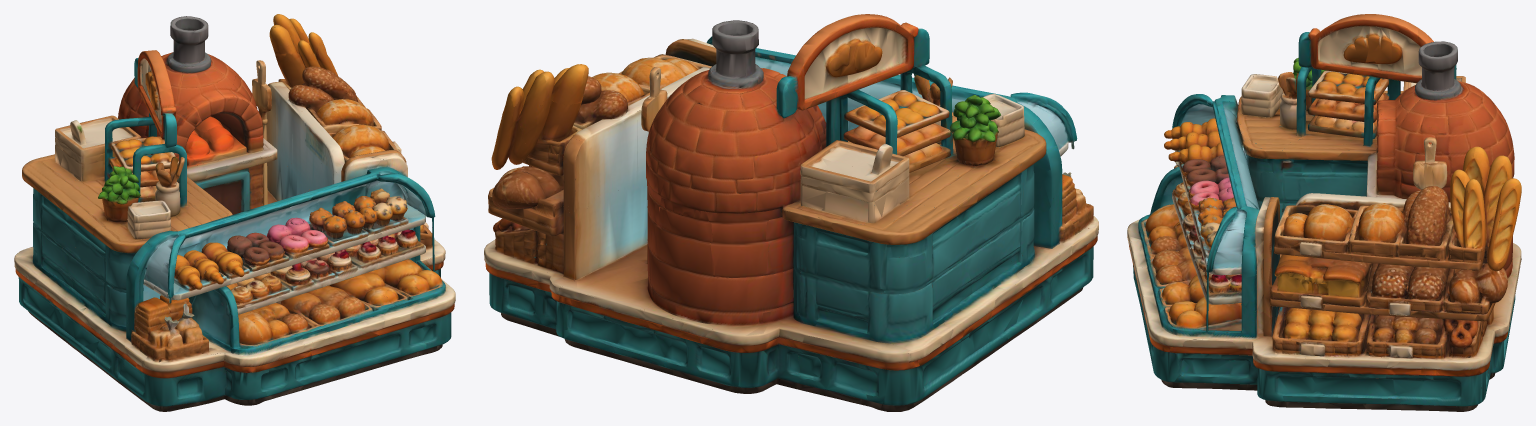
The model's file is BakeryDisplay.fbx.
3 views of the same model, side by side, from view 1: azimuth 30°, elevation 25°; view 2: azimuth 150°, elevation 25°; view 3: azimuth 270°, elevation 25° (orthographic). The views are drawn at different scales.
Parts seen in each view (by area): view 1: tripo_node_5d4427f1-ba9b-4432-8a0c-03a8f67b254d; view 2: tripo_node_5d4427f1-ba9b-4432-8a0c-03a8f67b254d; view 3: tripo_node_5d4427f1-ba9b-4432-8a0c-03a8f67b254d.
Boxes of the visible parts, box(x1,y1,x2,y2) form: tripo_node_5d4427f1-ba9b-4432-8a0c-03a8f67b254d: box(14, 14, 455, 411); tripo_node_5d4427f1-ba9b-4432-8a0c-03a8f67b254d: box(484, 14, 1098, 411); tripo_node_5d4427f1-ba9b-4432-8a0c-03a8f67b254d: box(1127, 14, 1521, 411).
Size of the model in its own units: 98.01 by 69.48 by 90.29.
